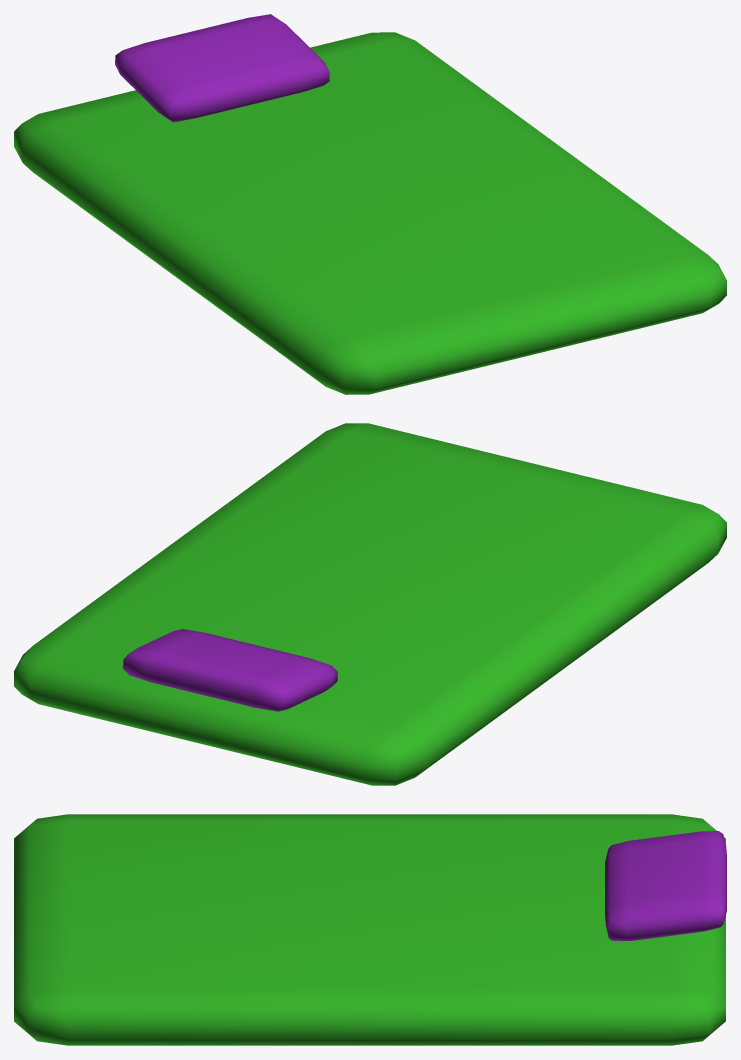
The model's file is Bed.fbx.
3 renders of one model, top to bottom at view 1: azimuth 30°, elevation 25°; view 2: azimuth 150°, elevation 25°; view 3: azimuth 270°, elevation 25°, orthographic. The views are drawn at different scales.
Visible parts, largest first — view 1: Seated, puf; view 2: Seated, puf; view 3: Seated, puf.
Part boxes in pixels (x1,y1,x2,y2): Seated: [14, 32, 726, 394]; puf: [115, 14, 329, 122]; Seated: [14, 423, 726, 785]; puf: [123, 629, 337, 711]; Seated: [14, 814, 725, 1045]; puf: [605, 831, 726, 940].
Size of what is drawn, in the model's own units: 182 by 36.61 by 272.
